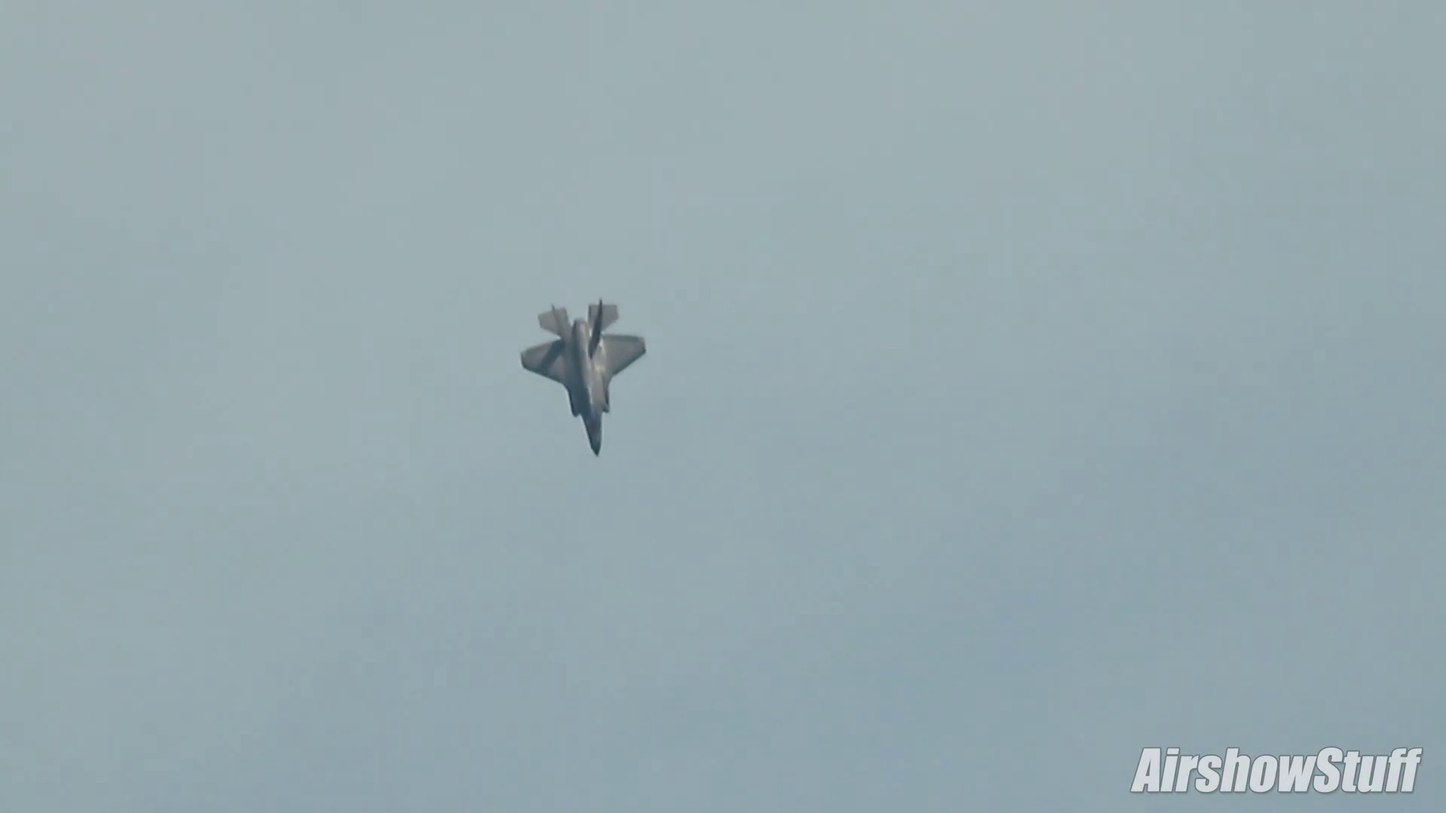F35: (518, 292, 652, 464)
